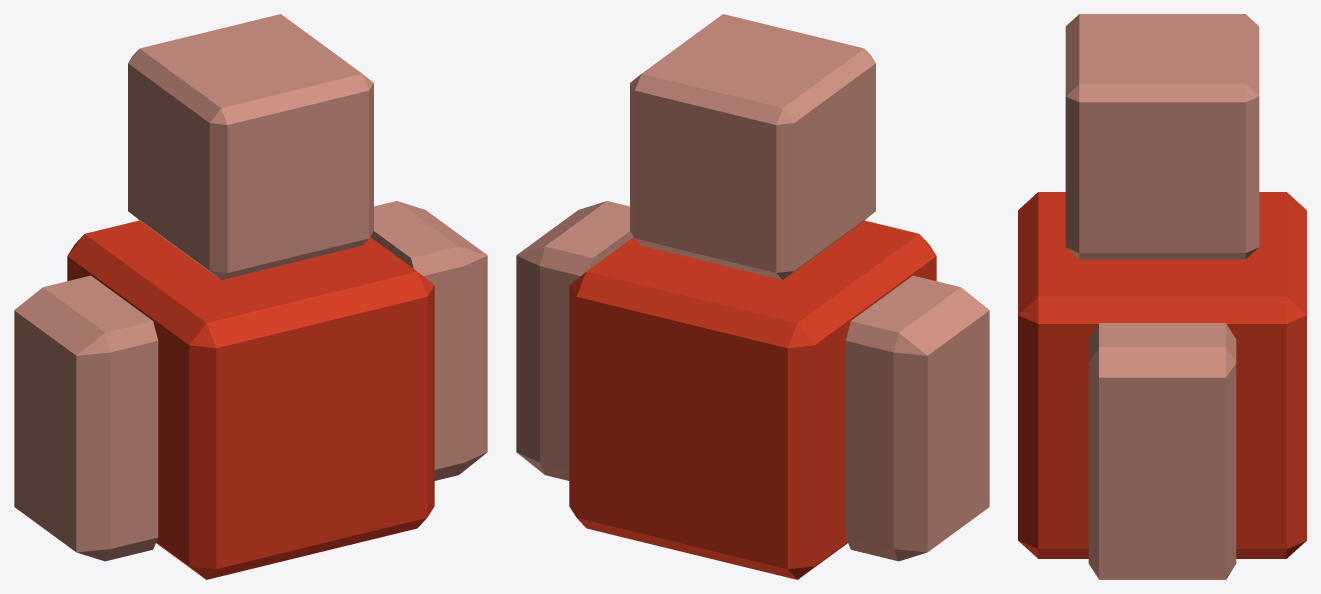
The model's file is Peasant.fbx.
3 renders of one model, left to right at view 1: azimuth 30°, elevation 25°; view 2: azimuth 150°, elevation 25°; view 3: azimuth 270°, elevation 25°, orthographic.
Parts seen in each view (by area): view 1: Body, Head, ArmR, ArmL; view 2: Body, Head, ArmR, ArmL; view 3: Body, Head, ArmL.
Boxes of the visible parts, x1=… form: Body: x1=67, y1=220, x2=434, y2=579; Head: x1=128, y1=14, x2=373, y2=279; ArmR: x1=14, y1=275, x2=158, y2=561; ArmL: x1=370, y1=201, x2=487, y2=480; Body: x1=569, y1=220, x2=936, y2=579; Head: x1=630, y1=14, x2=875, y2=279; ArmR: x1=845, y1=275, x2=989, y2=561; ArmL: x1=516, y1=201, x2=633, y2=480; Body: x1=1018, y1=192, x2=1306, y2=558; Head: x1=1065, y1=14, x2=1259, y2=259; ArmL: x1=1088, y1=323, x2=1236, y2=579.
Size of the model in its own units: 335 by 349 by 200.
